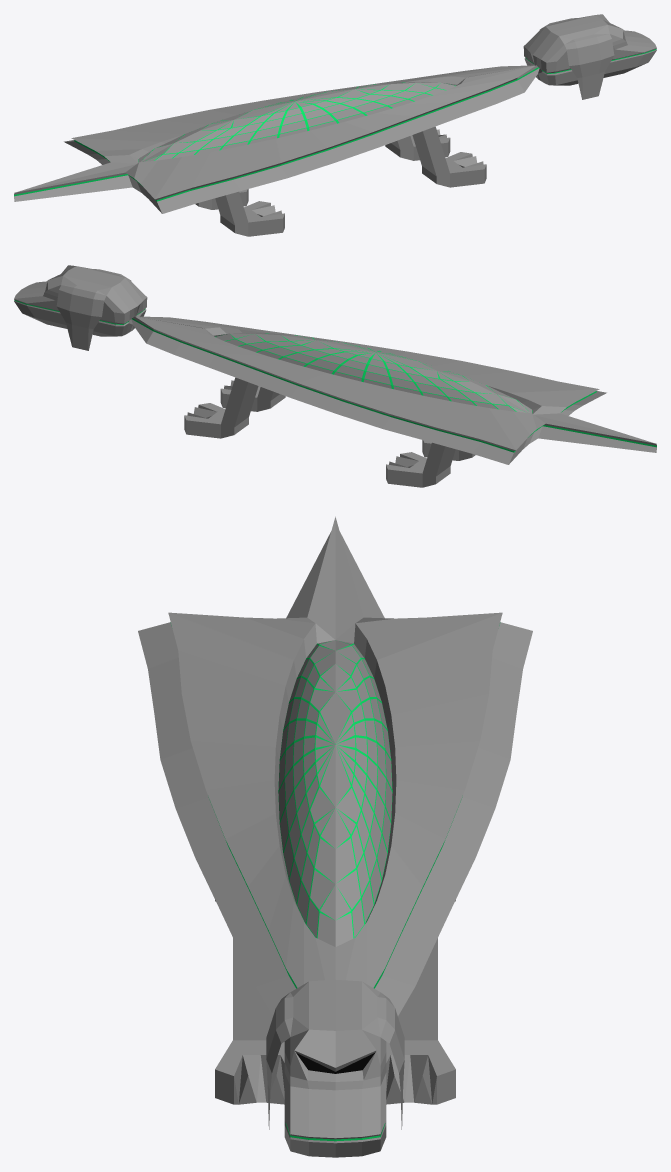
The model's file is Super D.O.G..fbx.
3 renders of one model, top to bottom at view 1: azimuth 30°, elevation 25°; view 2: azimuth 150°, elevation 25°; view 3: azimuth 270°, elevation 25°, orthographic. The views are drawn at different scales.
Visible parts, largest first — view 1: Sphere.001; view 2: Sphere.001; view 3: Sphere.001.
Boxes of the visible parts, x1=… form: Sphere.001: x1=14, y1=14, x2=656, y2=236; Sphere.001: x1=14, y1=265, x2=656, y2=487; Sphere.001: x1=138, y1=516, x2=532, y2=1157.
Size of the model in its own units: 31075 by 4959 by 8366.
